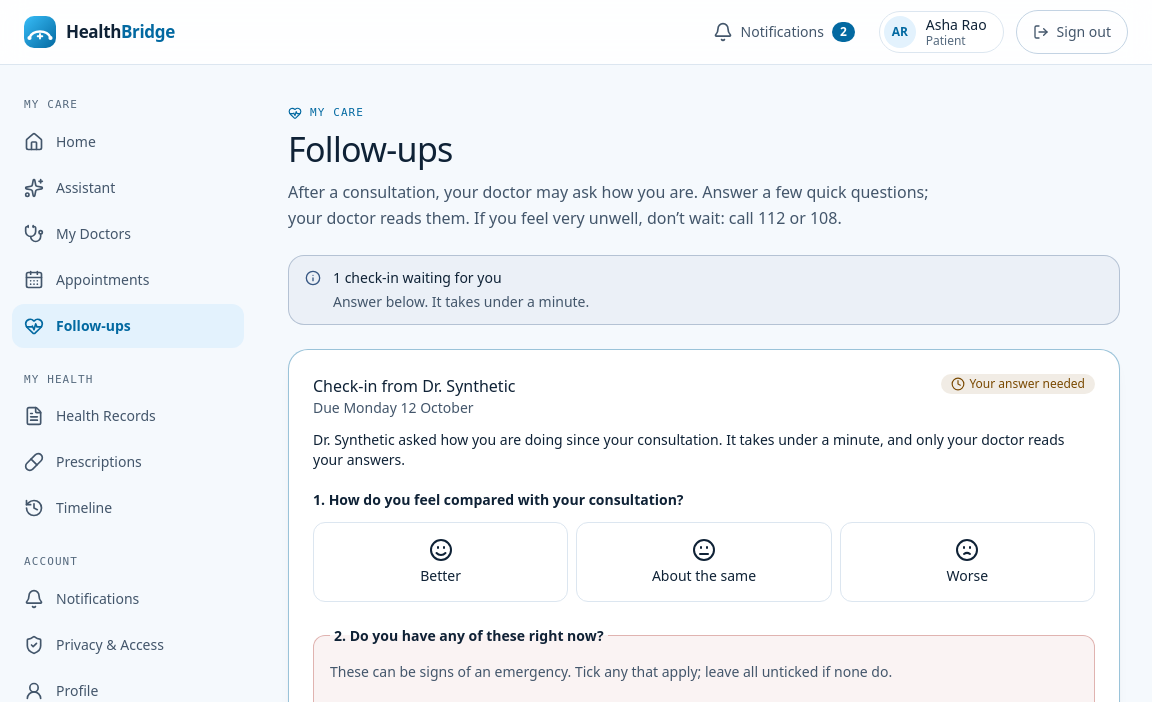
Test case: follow-ups › patient answers a check-in with a warning sign and sees emergency guidance
This screenshot has width=1152, height=702.
Expected: the text "Check-in from Dr. Synthetic" is shown, left=313, top=374, right=516, bottom=398
Click the radio button labelled "Worse" at {"x": 967, "y": 562}, box left=840, top=522, right=1095, bottom=602
(page scrolled)
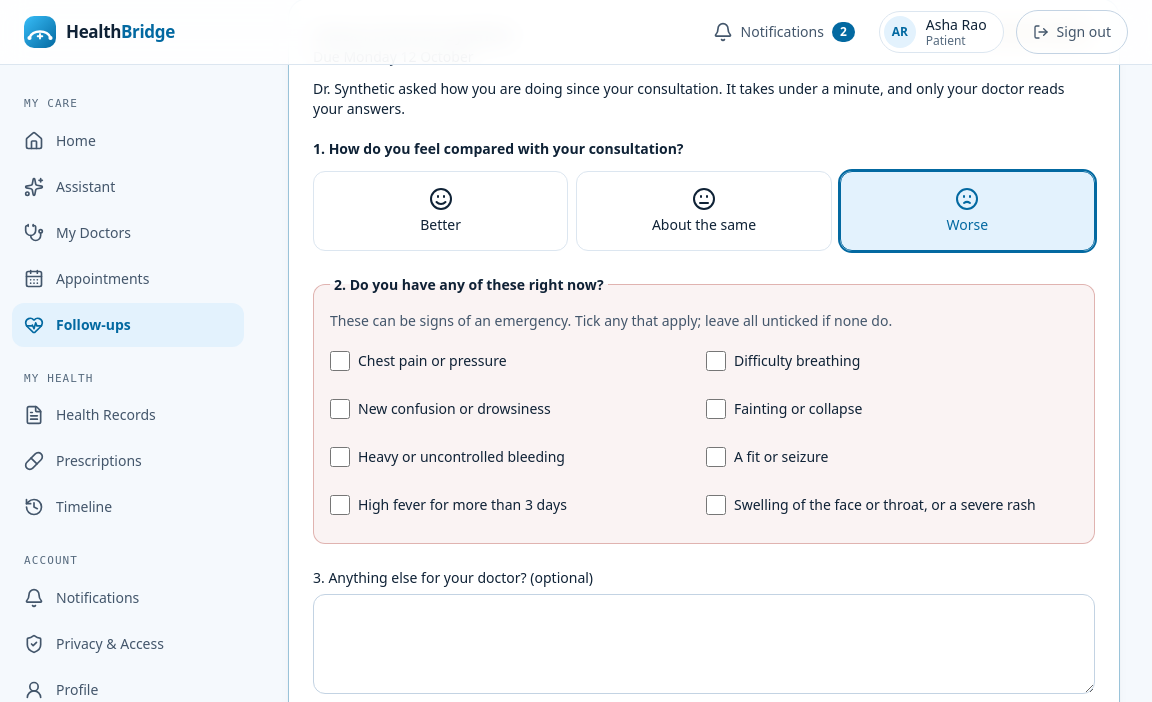
Click the checkbox labelled "Difficulty breathing" at {"x": 716, "y": 361}, box left=706, top=351, right=726, bottom=371
(page scrolled)
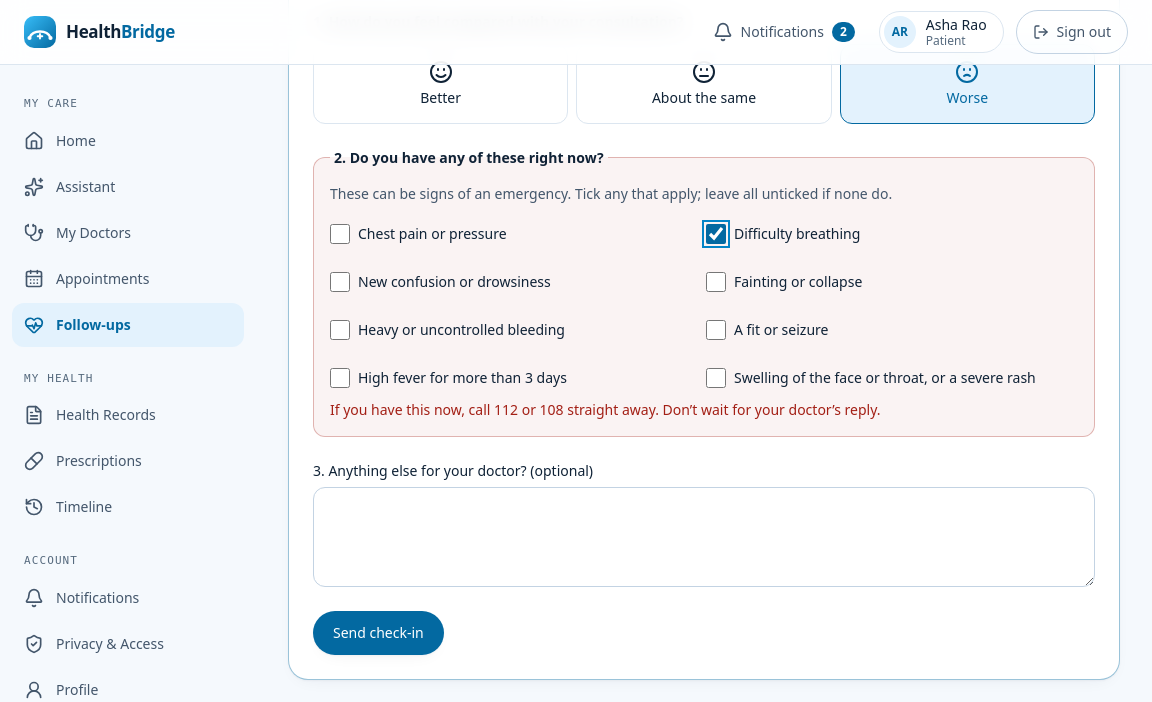
Click the button "Send check-in" at {"x": 378, "y": 633}, box left=313, top=611, right=444, bottom=655
(page scrolled)
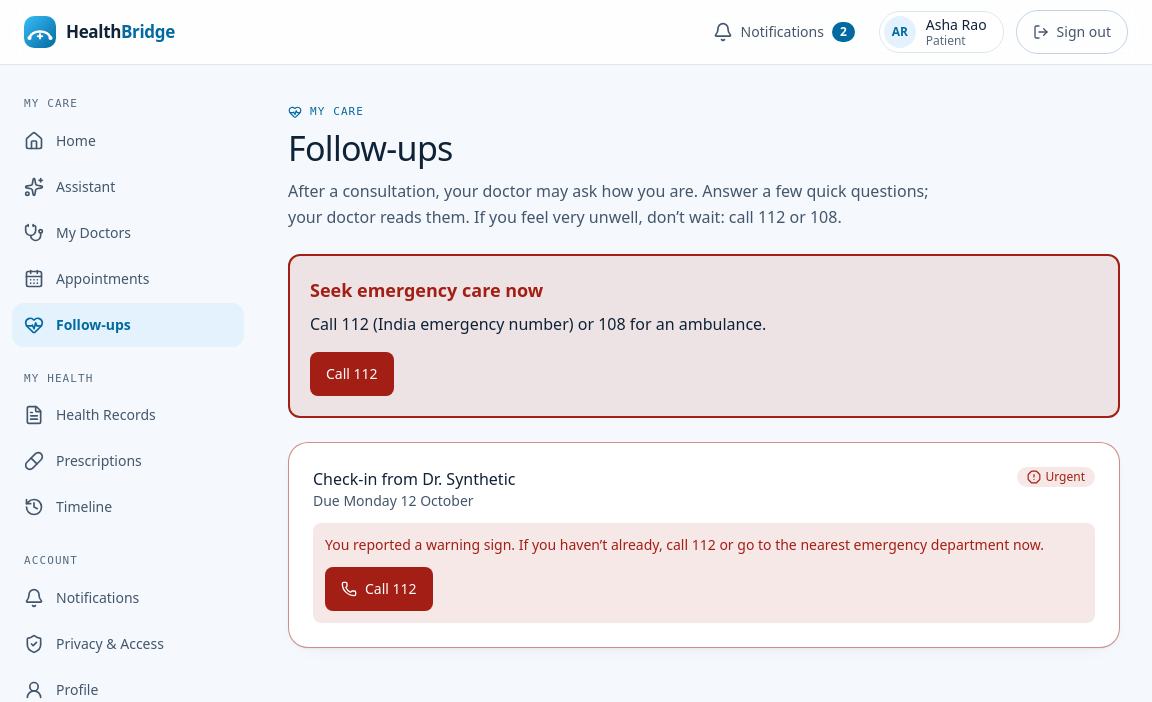
Now the message shows "Seek emergency care now", box left=310, top=278, right=543, bottom=302
